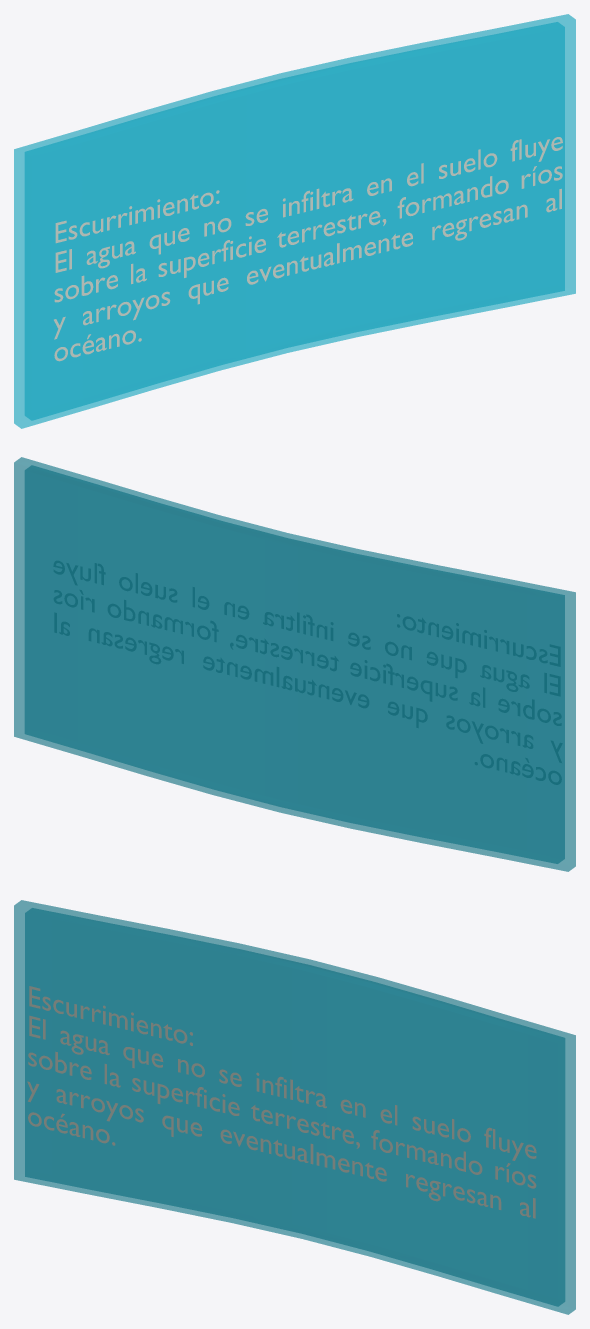
The model's file is esc.glb.
3 views of the same model, one above another, from view 1: azimuth 30°, elevation 25°; view 2: azimuth 150°, elevation 25°; view 3: azimuth 330°, elevation 25° (orthographic).
Parts seen in each view (by area): view 1: Cube, Escurrimiento; view 2: Cube, Escurrimiento; view 3: Cube, Escurrimiento.
Boxes of the visible parts, <box> form: Cube: <box>14,14,575,428</box>; Escurrimiento: <box>54,137,562,361</box>; Cube: <box>14,457,575,871</box>; Escurrimiento: <box>54,561,561,784</box>; Cube: <box>14,900,575,1314</box>; Escurrimiento: <box>27,986,536,1218</box>.
Size of the model in its own units: 4.23 by 2 by 0.3736.
